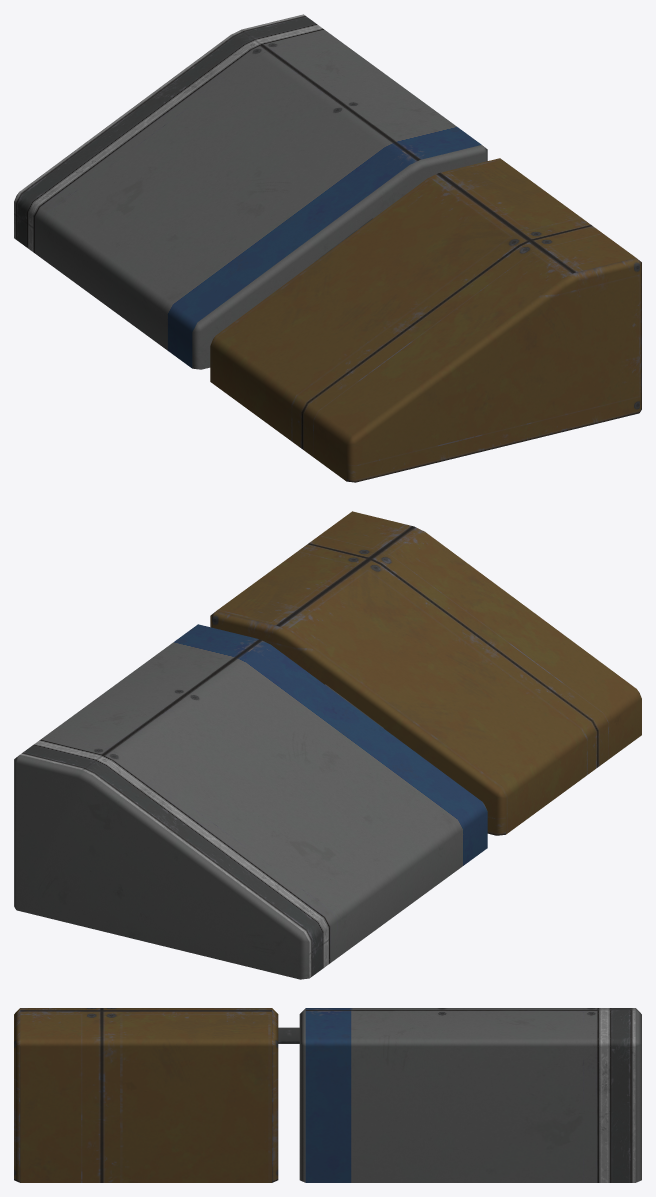
Rendered from Subway_wall_edge1_End2.fbx.
The picture shows the model from 3 angles, top to bottom: view 1: azimuth 30°, elevation 25°; view 2: azimuth 150°, elevation 25°; view 3: azimuth 270°, elevation 25°; orthographic projection. The views are drawn at different scales.
Parts seen in each view (by area): view 1: polySurface891; view 2: polySurface891; view 3: polySurface891.
Boxes of the visible parts, box(x1,y1,x2,y2) form: polySurface891: box(14, 14, 641, 482); polySurface891: box(14, 511, 641, 979); polySurface891: box(14, 1008, 641, 1182).
Bounding box in the file's own units: 122 × 60.23 × 242.
